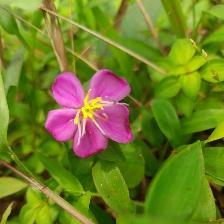malabar melastome: (45, 69, 138, 159)
